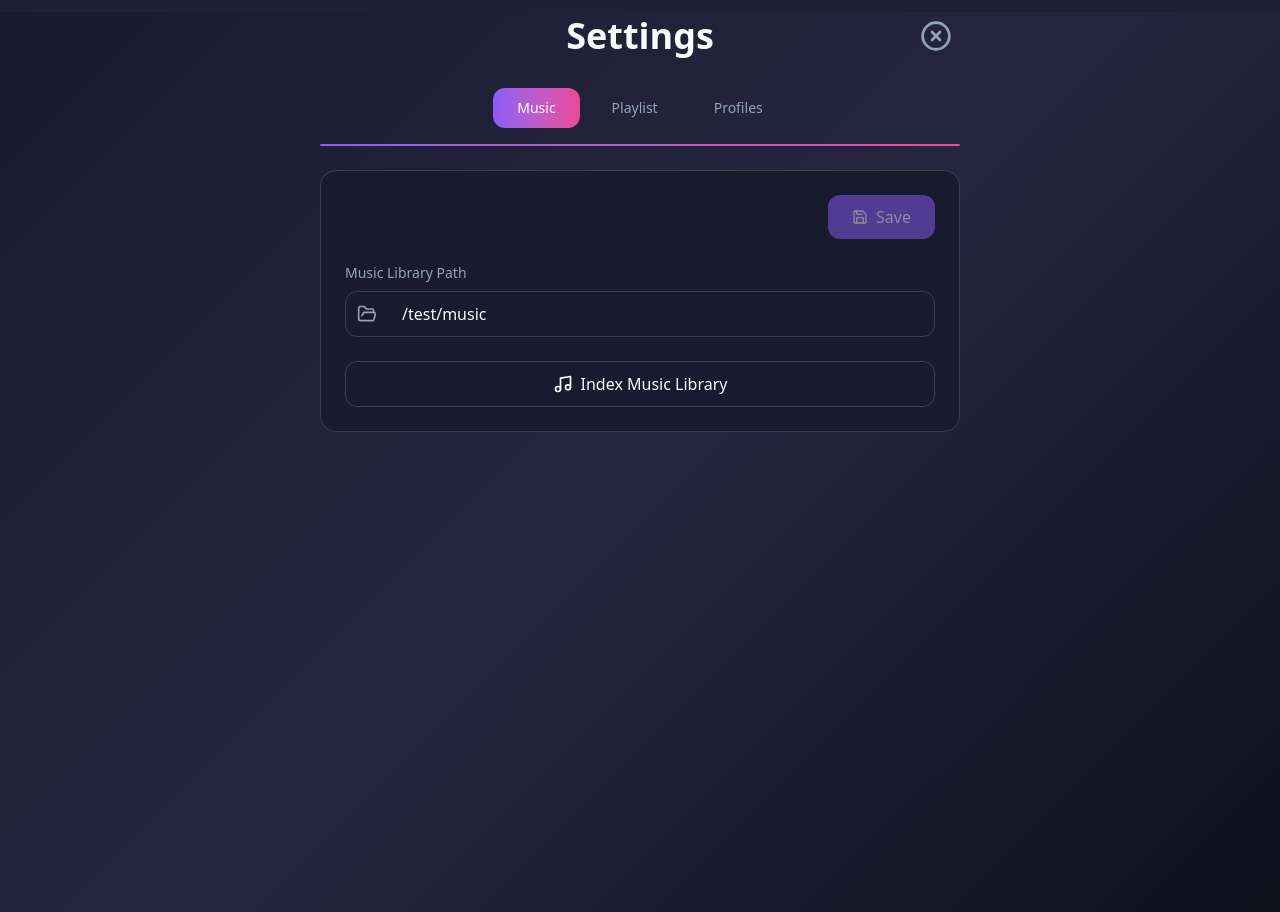
ConfigScreen › shows Profiles tab content when Profiles tab button is clicked
Click the button "Profiles".
click(738, 108)  # box 690,88 -> 787,128
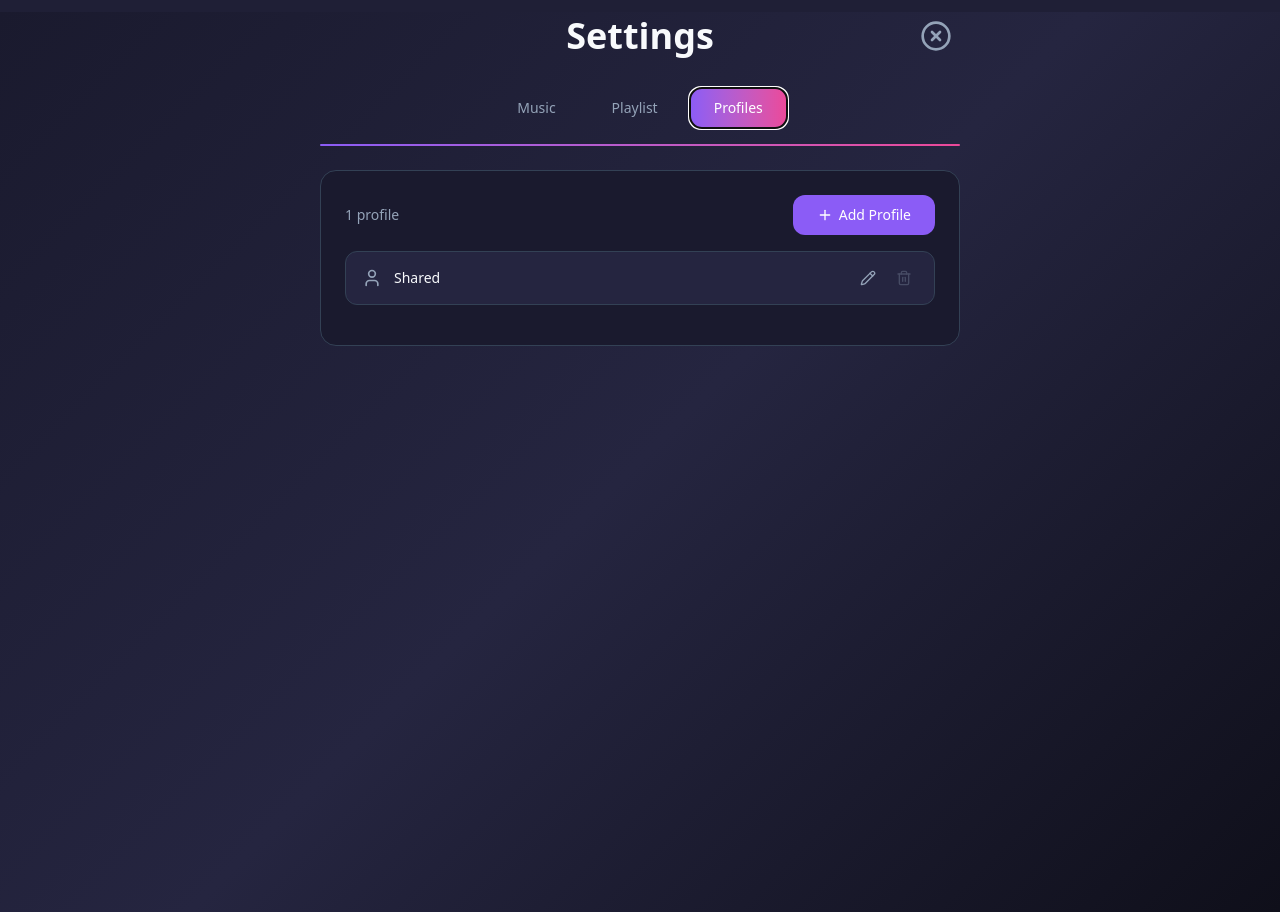
Now the button "Add Profile" is shown, box 793,195 -> 935,235
